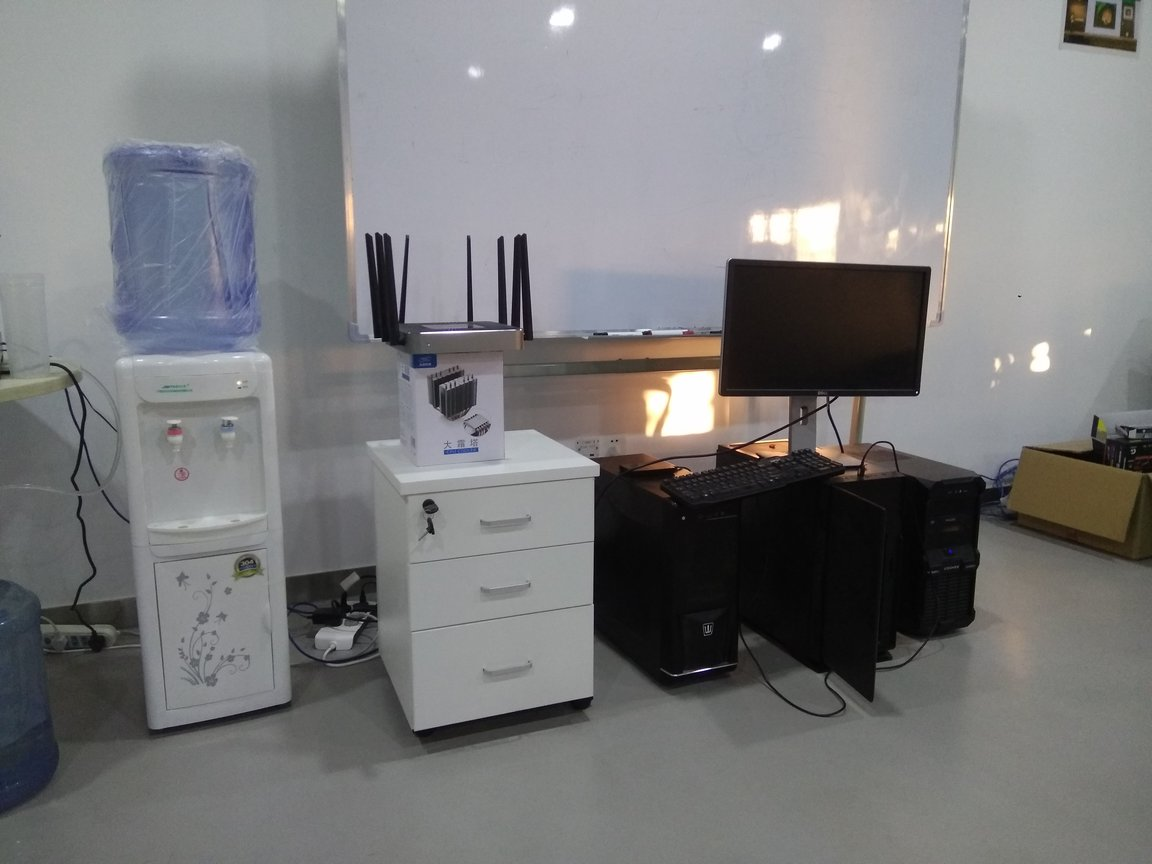computer: (712, 434, 911, 699), (585, 445, 745, 693), (837, 431, 979, 641)
drawer chest: (365, 440, 607, 746)
monitor: (711, 253, 934, 457)
scuttlebutt: (100, 138, 258, 353), (1, 576, 62, 828)
water dispenser: (107, 354, 294, 730)
